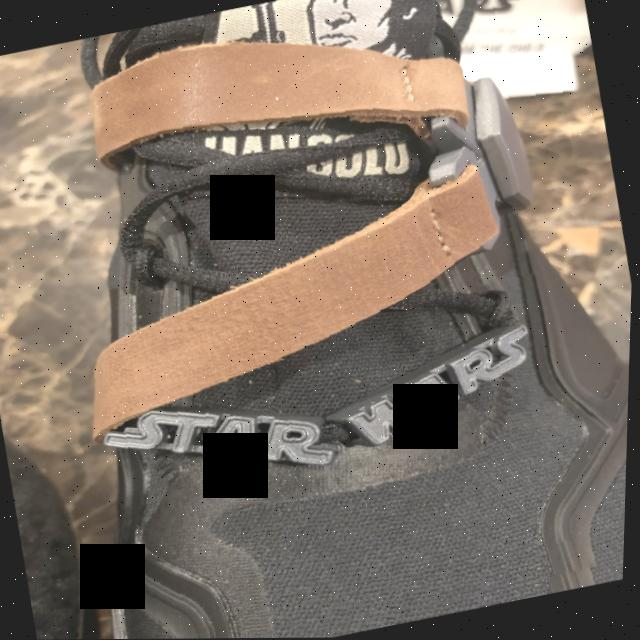shoe: (4, 0, 640, 640)
